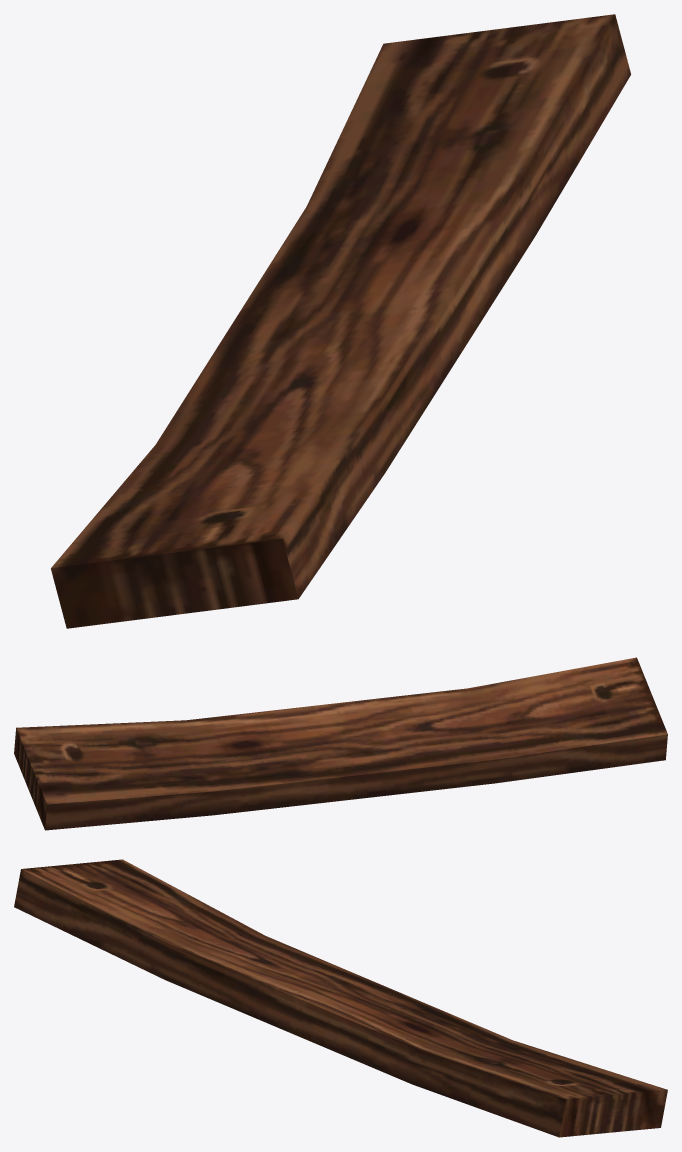
The model's file is OVERHILL_A_01_WOOD_BOARD_21.obj.
The picture shows the model from 3 angles, top to bottom: view 1: azimuth 30°, elevation 25°; view 2: azimuth 150°, elevation 25°; view 3: azimuth 270°, elevation 25°; orthographic projection. The views are drawn at different scales.
Visible parts, largest first — view 1: wood_board_21; view 2: wood_board_21; view 3: wood_board_21.
Boxes of the visible parts, bbox=[...] form: wood_board_21: bbox=[51, 14, 630, 628]; wood_board_21: bbox=[14, 657, 667, 830]; wood_board_21: bbox=[14, 859, 667, 1137].
Bounding box in the file's own units: 155 × 20.06 × 155.
